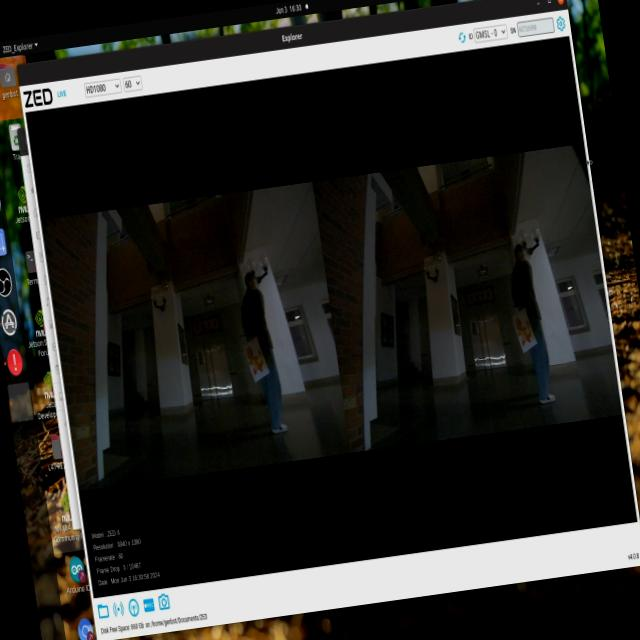red: (512, 305, 544, 356), (238, 340, 268, 385)
